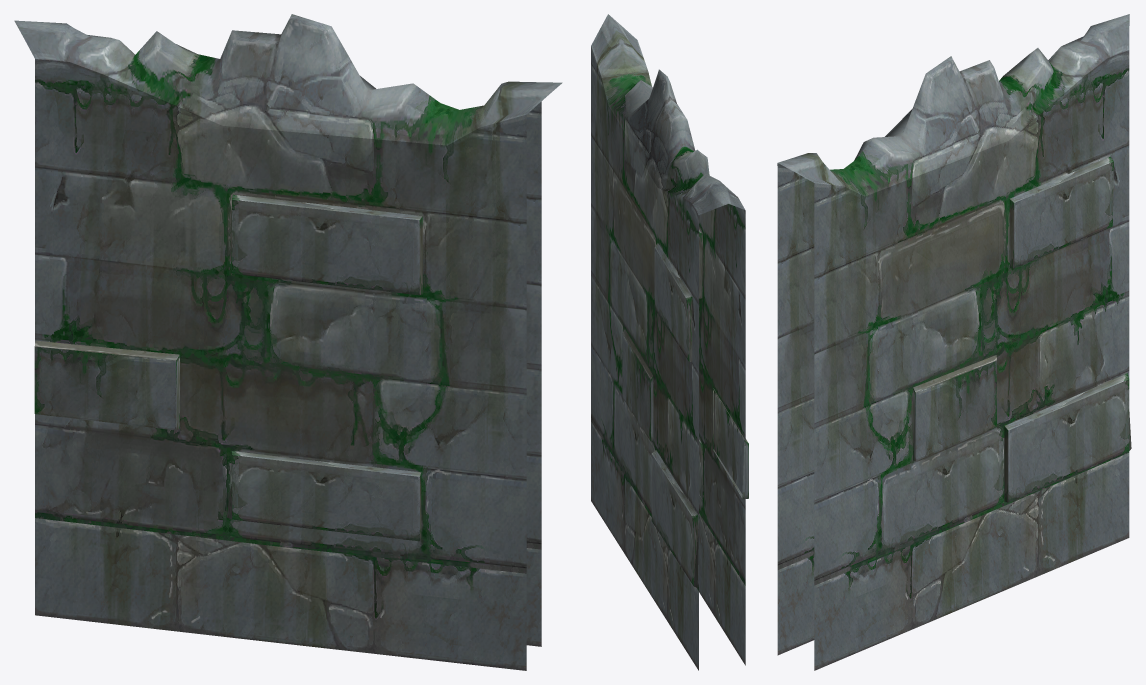
File: stemple_wall_diagonal_05.fbx
3 views of the same model, side by side, from view 1: azimuth 30°, elevation 25°; view 2: azimuth 150°, elevation 25°; view 3: azimuth 270°, elevation 25° (orthographic). The views are drawn at different scales.
Visible parts, largest first — view 1: stemple_wall_diagonal_05-0; view 2: stemple_wall_diagonal_05-0; view 3: stemple_wall_diagonal_05-0.
Part boxes in pixels (x1,y1,x2,y2): stemple_wall_diagonal_05-0: (14, 14, 562, 670); stemple_wall_diagonal_05-0: (591, 14, 748, 670); stemple_wall_diagonal_05-0: (777, 14, 1131, 670).
Bounding box in the file's own units: 4.03 × 6.79 × 4.02.
